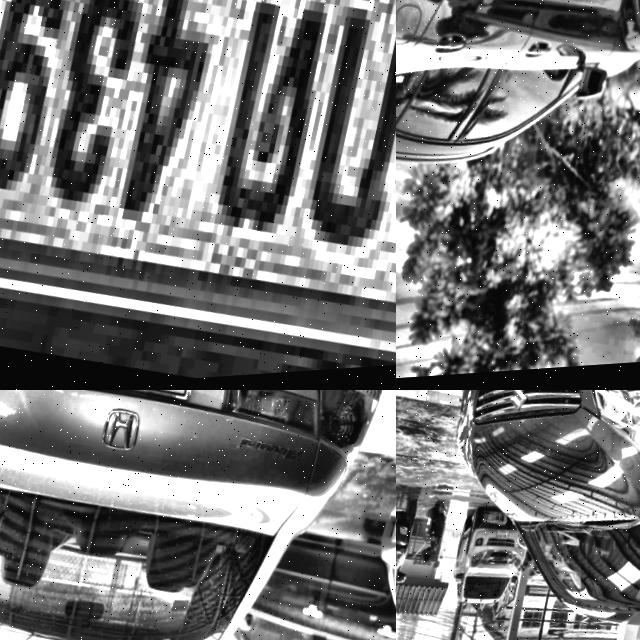license-plate: (0, 0, 396, 390), (383, 509, 396, 557), (491, 528, 508, 544)
